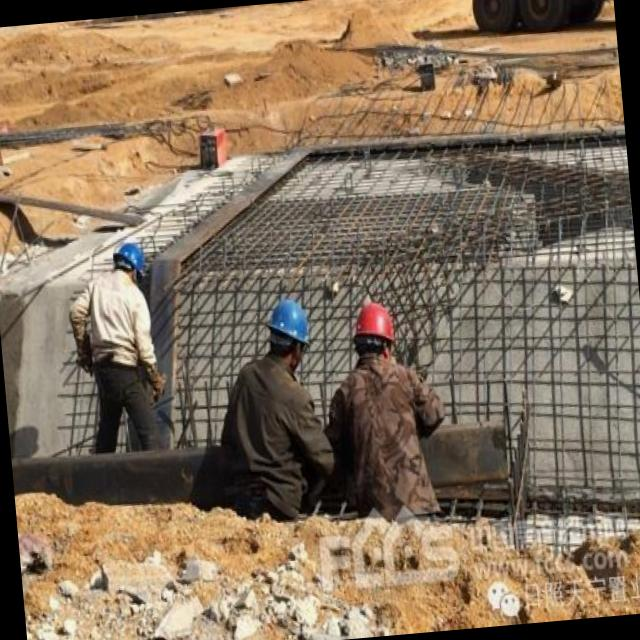helmet: (256, 296, 314, 362), (346, 300, 398, 362)
no-vest: (224, 356, 314, 510), (343, 356, 430, 512), (86, 274, 150, 368)
